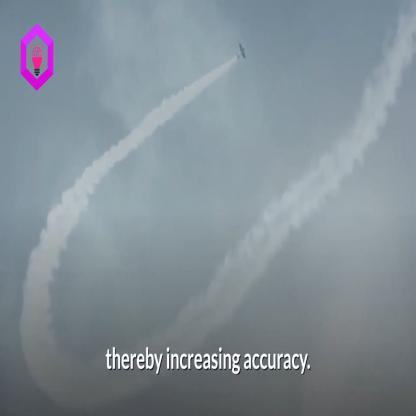plane: (236, 37, 251, 66)
